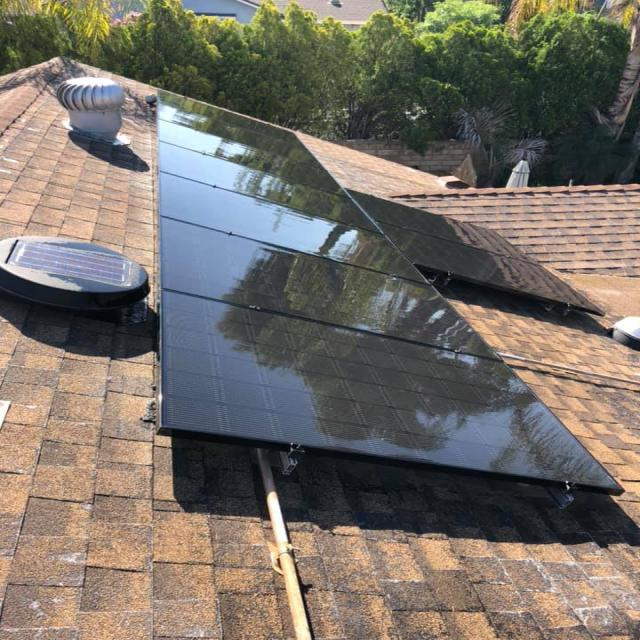clean-solar-panel: (158, 91, 620, 494)
